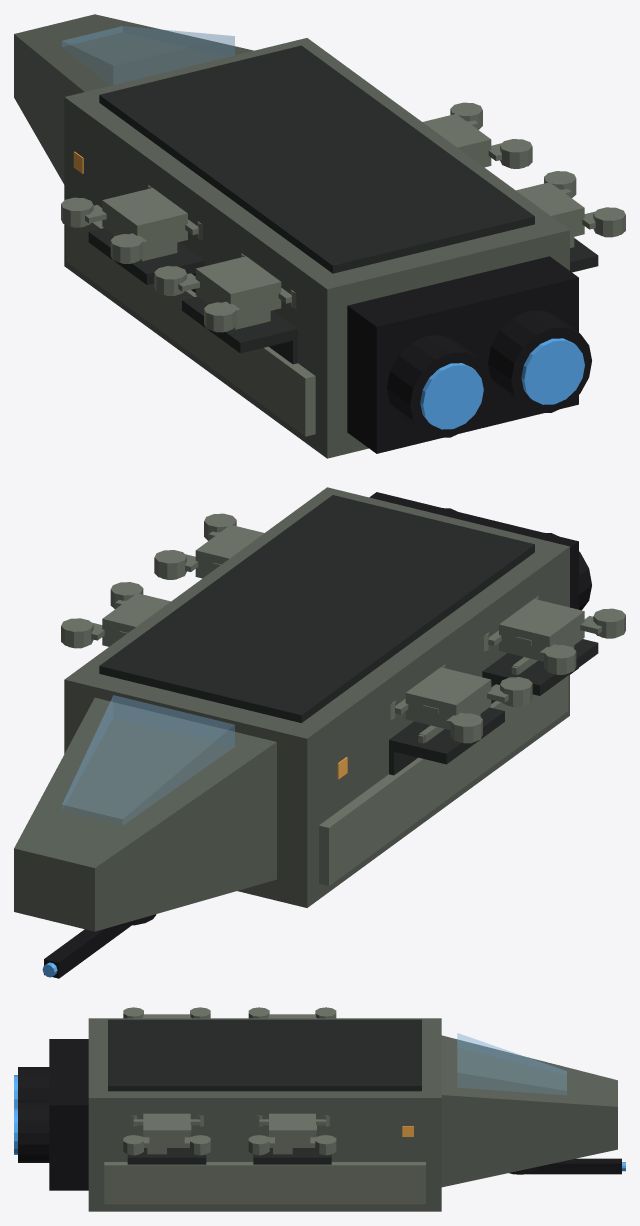
The model's file is ship_XS_MINER.obj.
3 views of the same model, one above another, from view 1: azimuth 30°, elevation 25°; view 2: azimuth 150°, elevation 25°; view 3: azimuth 270°, elevation 25° (orthographic). The views are drawn at different scales.
Visible parts, largest first — view 1: XS_MINER_Hull-col, XS_MINER_HoldHatch-col, XS_MINER_Engines, XS_MINER_Armor, XS_MINER_EngineGlow, XS_MINER_Glass-col, XS_MINER_Drone_1, XS_MINER_Drone_2, XS_MINER_Trim, XS_MINER_Drone_3, XS_MINER_Drone_4; view 2: XS_MINER_Hull-col, XS_MINER_HoldHatch-col, XS_MINER_Glass-col, XS_MINER_Armor, XS_MINER_Drone_2, XS_MINER_Drone_1, XS_MINER_Trim, XS_MINER_Drone_4, XS_MINER_Drone_3, XS_MINER_Engines, XS_MINER_MiningLaser; view 3: XS_MINER_Hull-col, XS_MINER_HoldHatch-col, XS_MINER_Armor, XS_MINER_Engines, XS_MINER_Glass-col, XS_MINER_Drone_4, XS_MINER_Drone_3, XS_MINER_Trim, XS_MINER_MiningLaser, XS_MINER_Drone_2, XS_MINER_Drone_1, XS_MINER_EngineGlow.
Part boxes in pixels (x1,y1,x2,y2): XS_MINER_Hull-col: [14, 14, 569, 458]; XS_MINER_HoldHatch-col: [99, 45, 534, 273]; XS_MINER_Engines: [347, 256, 591, 453]; XS_MINER_Armor: [66, 220, 315, 436]; XS_MINER_EngineGlow: [420, 338, 584, 429]; XS_MINER_Glass-col: [62, 26, 234, 84]; XS_MINER_Drone_1: [154, 253, 296, 332]; XS_MINER_Drone_2: [61, 185, 202, 263]; XS_MINER_Trim: [88, 228, 598, 364]; XS_MINER_Drone_3: [516, 171, 625, 247]; XS_MINER_Drone_4: [422, 102, 532, 168]; XS_MINER_Hull-col: [14, 487, 569, 931]; XS_MINER_HoldHatch-col: [99, 495, 534, 722]; XS_MINER_Glass-col: [62, 695, 234, 825]; XS_MINER_Armor: [319, 676, 568, 885]; XS_MINER_Drone_2: [390, 664, 532, 743]; XS_MINER_Drone_1: [484, 596, 625, 674]; XS_MINER_Trim: [389, 639, 598, 775]; XS_MINER_Drone_4: [61, 582, 170, 648]; XS_MINER_Drone_3: [154, 513, 264, 579]; XS_MINER_Engines: [369, 492, 591, 674]; XS_MINER_MiningLaser: [44, 914, 156, 978]; XS_MINER_Hull-col: [88, 1018, 617, 1211]; XS_MINER_HoldHatch-col: [108, 1019, 421, 1091]; XS_MINER_Armor: [104, 1162, 425, 1204]; XS_MINER_Engines: [18, 1039, 88, 1190]; XS_MINER_Glass-col: [457, 1033, 566, 1094]; XS_MINER_Drone_4: [248, 1113, 336, 1155]; XS_MINER_Drone_3: [123, 1113, 210, 1155]; XS_MINER_Trim: [127, 1148, 331, 1164]; XS_MINER_MiningLaser: [509, 1158, 621, 1174]; XS_MINER_Drone_2: [248, 1007, 336, 1018]; XS_MINER_Drone_1: [123, 1007, 210, 1018]; XS_MINER_EngineGlow: [14, 1075, 17, 1154].
Bounding box in the file's own units: 8.26 × 3.75 × 15.6.
